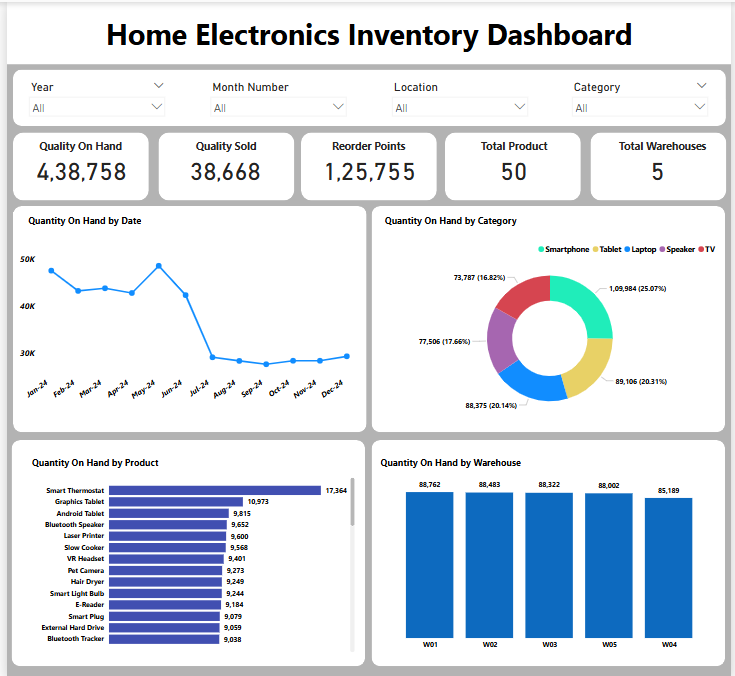

Layout of this report page (visuals, bound fields, positions):
{"tool":"powerbi","page":{"name":"Page 1","canvas":[1280,1200],"ordinal":0},"visuals":[{"type":"shape","title":"Home Electronics Inventory Dashboard","box":[0,0,1280,110],"z":0},{"type":"shape","title":"Home Electronics Inventory Dashboard","box":[10,120,1260,100],"z":1000},{"type":"slicer","fields":{"Values":["Calendar.Year"]},"box":[30,133,260,75],"z":2000},{"type":"slicer","fields":{"Values":["Warehouse.Location"]},"box":[670,133,260,75],"z":3000},{"type":"slicer","fields":{"Values":["Calendar.Month Number"]},"box":[350,133,260,75],"z":4000},{"type":"slicer","fields":{"Values":["SKU.Category"]},"box":[990,133,260,75],"z":5000},{"type":"shape","box":[10,230,240,120],"z":6000},{"type":"shape","title":"Home Electronics Inventory Dashboard","box":[266.7,230,240,120],"z":7000},{"type":"shape","title":"Home Electronics Inventory Dashboard","box":[520,230,240,120],"z":8000},{"type":"shape","title":"Home Electronics Inventory Dashboard","box":[775,230,240,120],"z":9000},{"type":"shape","title":"Home Electronics Inventory Dashboard","box":[1030,230,240,120],"z":10000},{"type":"card","fields":{"Values":["Inventory.Q_on_hand"]},"box":[20,245,220,100],"z":11000},{"type":"textbox","box":[45,237,170,40],"z":12000},{"type":"card","fields":{"Values":["Inventory.tot_quality Sold"]},"box":[276.7,245,220,100],"z":13000},{"type":"card","fields":{"Values":["Inventory.reorder_sum"]},"box":[530,245,220,100],"z":14000},{"type":"card","fields":{"Values":["SKU.distinct_category"]},"box":[785,245,220,100],"z":15000},{"type":"card","fields":{"Values":["Warehouse.distinct_warehouse"]},"box":[1040,245,220,100],"z":16000},{"type":"textbox","box":[301.7,236.7,170,40],"z":17000},{"type":"textbox","box":[555,237,170,40],"z":18000},{"type":"textbox","box":[811.7,236.7,170,40],"z":19000},{"type":"textbox","box":[1065,236.7,185,40],"z":20000},{"type":"shape","title":"Home Electronics Inventory Dashboard","box":[10,360,625,400],"z":21000},{"type":"shape","title":"Home Electronics Inventory Dashboard","box":[645,360,625,400],"z":22000},{"type":"shape","title":"Home Electronics Inventory Dashboard","box":[656.7,371.7,253.3,30],"z":23000},{"type":"donutChart","fields":{"Category":["SKU.Category"],"Y":["Inventory.Q_on_hand"]},"box":[656.7,416.7,603.3,326.7],"z":24000},{"type":"shape","title":"Home Electronics Inventory Dashboard","box":[10,371.7,253.3,30],"z":25000},{"type":"lineChart","fields":{"Category":["Calendar.Year","Calendar.Month Name"],"Y":["Inventory.Q_on_hand"]},"box":[15,438.3,608.3,285],"z":26000},{"type":"shape","title":"Home Electronics Inventory Dashboard","box":[6.7,775,625,400],"z":27000},{"type":"shape","title":"Home Electronics Inventory Dashboard","box":[645,775,625,400],"z":28000},{"type":"barChart","fields":{"Category":["SKU.Product_Name"],"Y":["Inventory.Q_on_hand"]},"box":[15,828.3,603.3,326.7],"z":29000},{"type":"shape","title":"Home Electronics Inventory Dashboard","box":[30,798.3,253.3,30],"z":30000},{"type":"clusteredColumnChart","fields":{"Y":["Inventory.Q_on_hand"],"Category":["Warehouse.Warehouse_ID"]},"box":[656.7,828.3,603.3,326.7],"z":31000},{"type":"shape","title":"Home Electronics Inventory Dashboard","box":[656.7,798.3,253.3,30],"z":32000}]}

Visuals, with their boxes in screenshot pixels (x1, y1, x2, y2), scaled from the page's 1280x1200 canvas onto the 735x676 screenshot:
"Home Electronics Inventory Dashboard" shape: 0/0/734/62
"Home Electronics Inventory Dashboard" shape: 6/68/729/124
slicer - Calendar.Year: 17/75/167/117
slicer - Warehouse.Location: 385/75/534/117
slicer - Calendar.Month Number: 201/75/350/117
slicer - SKU.Category: 568/75/718/117
shape: 6/130/144/197
"Home Electronics Inventory Dashboard" shape: 153/130/291/197
"Home Electronics Inventory Dashboard" shape: 299/130/436/197
"Home Electronics Inventory Dashboard" shape: 445/130/583/197
"Home Electronics Inventory Dashboard" shape: 591/130/729/197
card - Inventory.Q_on_hand: 11/138/138/194
textbox: 26/134/123/156
card - Inventory.tot_quality Sold: 159/138/285/194
card - Inventory.reorder_sum: 304/138/431/194
card - SKU.distinct_category: 451/138/577/194
card - Warehouse.distinct_warehouse: 597/138/724/194
textbox: 173/133/271/156
textbox: 319/134/416/156
textbox: 466/133/564/156
textbox: 612/133/718/156
"Home Electronics Inventory Dashboard" shape: 6/203/365/428
"Home Electronics Inventory Dashboard" shape: 370/203/729/428
"Home Electronics Inventory Dashboard" shape: 377/209/523/226
donutChart - SKU.Category x Inventory.Q_on_hand: 377/235/724/419
"Home Electronics Inventory Dashboard" shape: 6/209/151/226
lineChart - Calendar.Year x Calendar.Month Name: 9/247/358/407
"Home Electronics Inventory Dashboard" shape: 4/437/363/662
"Home Electronics Inventory Dashboard" shape: 370/437/729/662
barChart - SKU.Product_Name x Inventory.Q_on_hand: 9/467/355/651
"Home Electronics Inventory Dashboard" shape: 17/450/163/467
clusteredColumnChart - Inventory.Q_on_hand x Warehouse.Warehouse_ID: 377/467/724/651
"Home Electronics Inventory Dashboard" shape: 377/450/523/467
